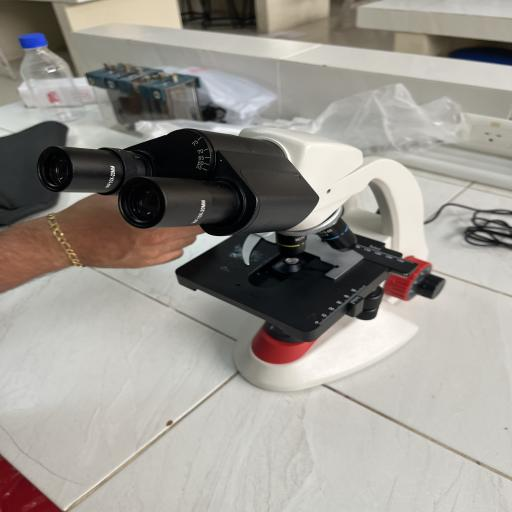Microscopio_Binocular: (32, 102, 456, 402)
